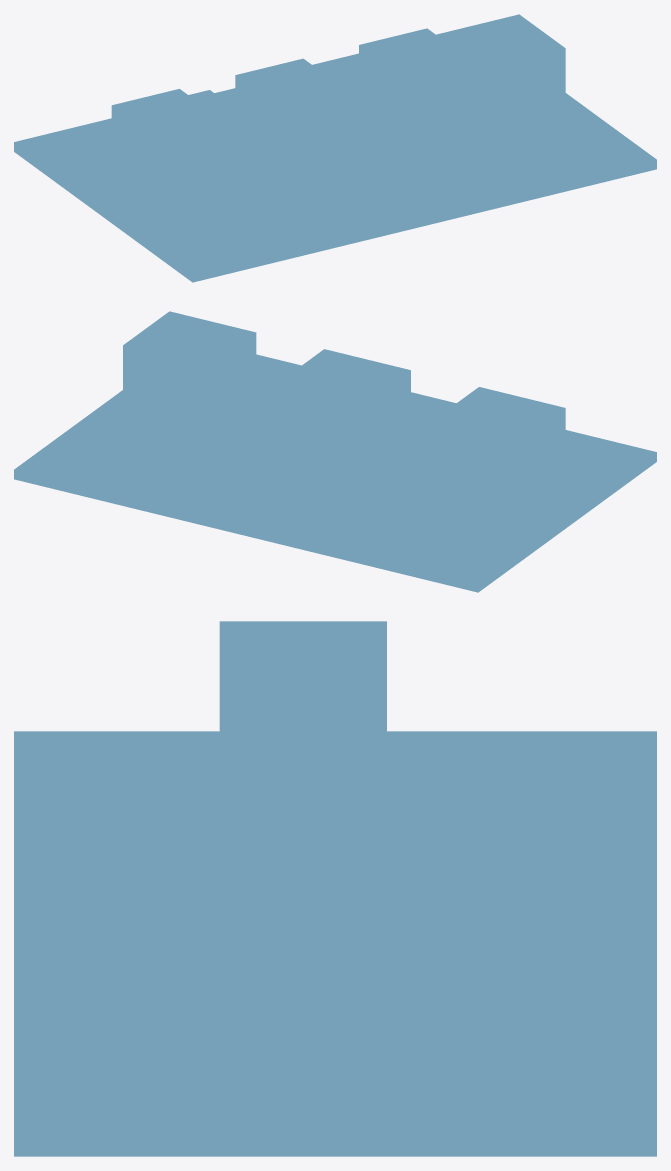
The model's file is factory-layout.glb.
3 views of the same model, one above another, from view 1: azimuth 30°, elevation 25°; view 2: azimuth 150°, elevation 25°; view 3: azimuth 270°, elevation 25° (orthographic). The views are drawn at different scales.
Parts seen in each view (by area): view 1: derived-factory-layout; view 2: derived-factory-layout; view 3: derived-factory-layout.
Part boxes in pixels (x1,y1,x2,y2): derived-factory-layout: (14, 14, 656, 282); derived-factory-layout: (14, 311, 656, 592); derived-factory-layout: (14, 621, 656, 1156).
Size of the model in its own units: 15 by 2.7 by 10.
